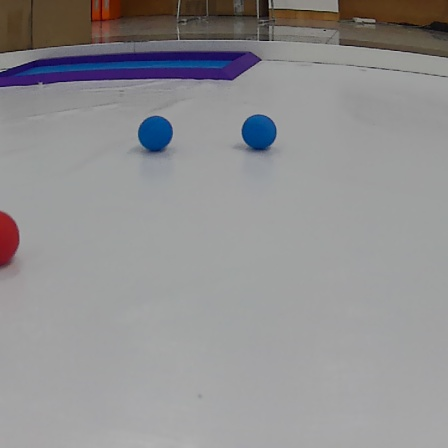blue: (130, 111, 173, 152), (241, 116, 278, 146)
blue_aim: (0, 55, 257, 84)
red: (0, 209, 20, 268)
